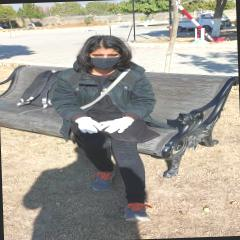gloved: (73, 116, 100, 134), (102, 117, 130, 134)
